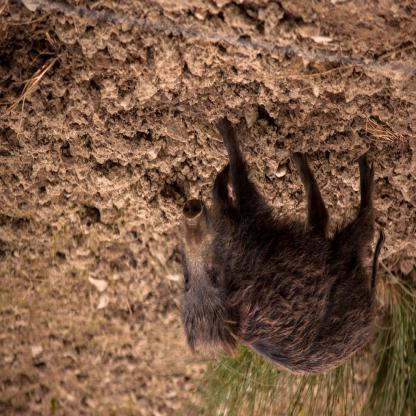boar: (173, 114, 385, 378)
